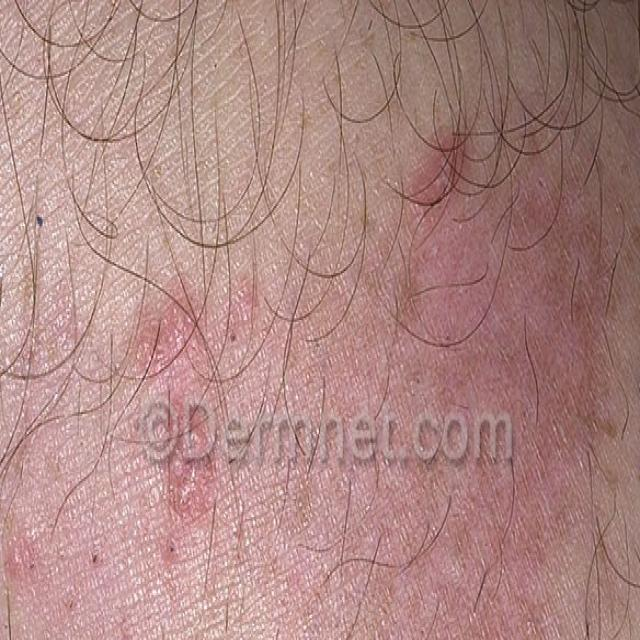Viral Infections: (371, 103, 584, 634), (135, 282, 238, 599), (0, 521, 55, 618)
